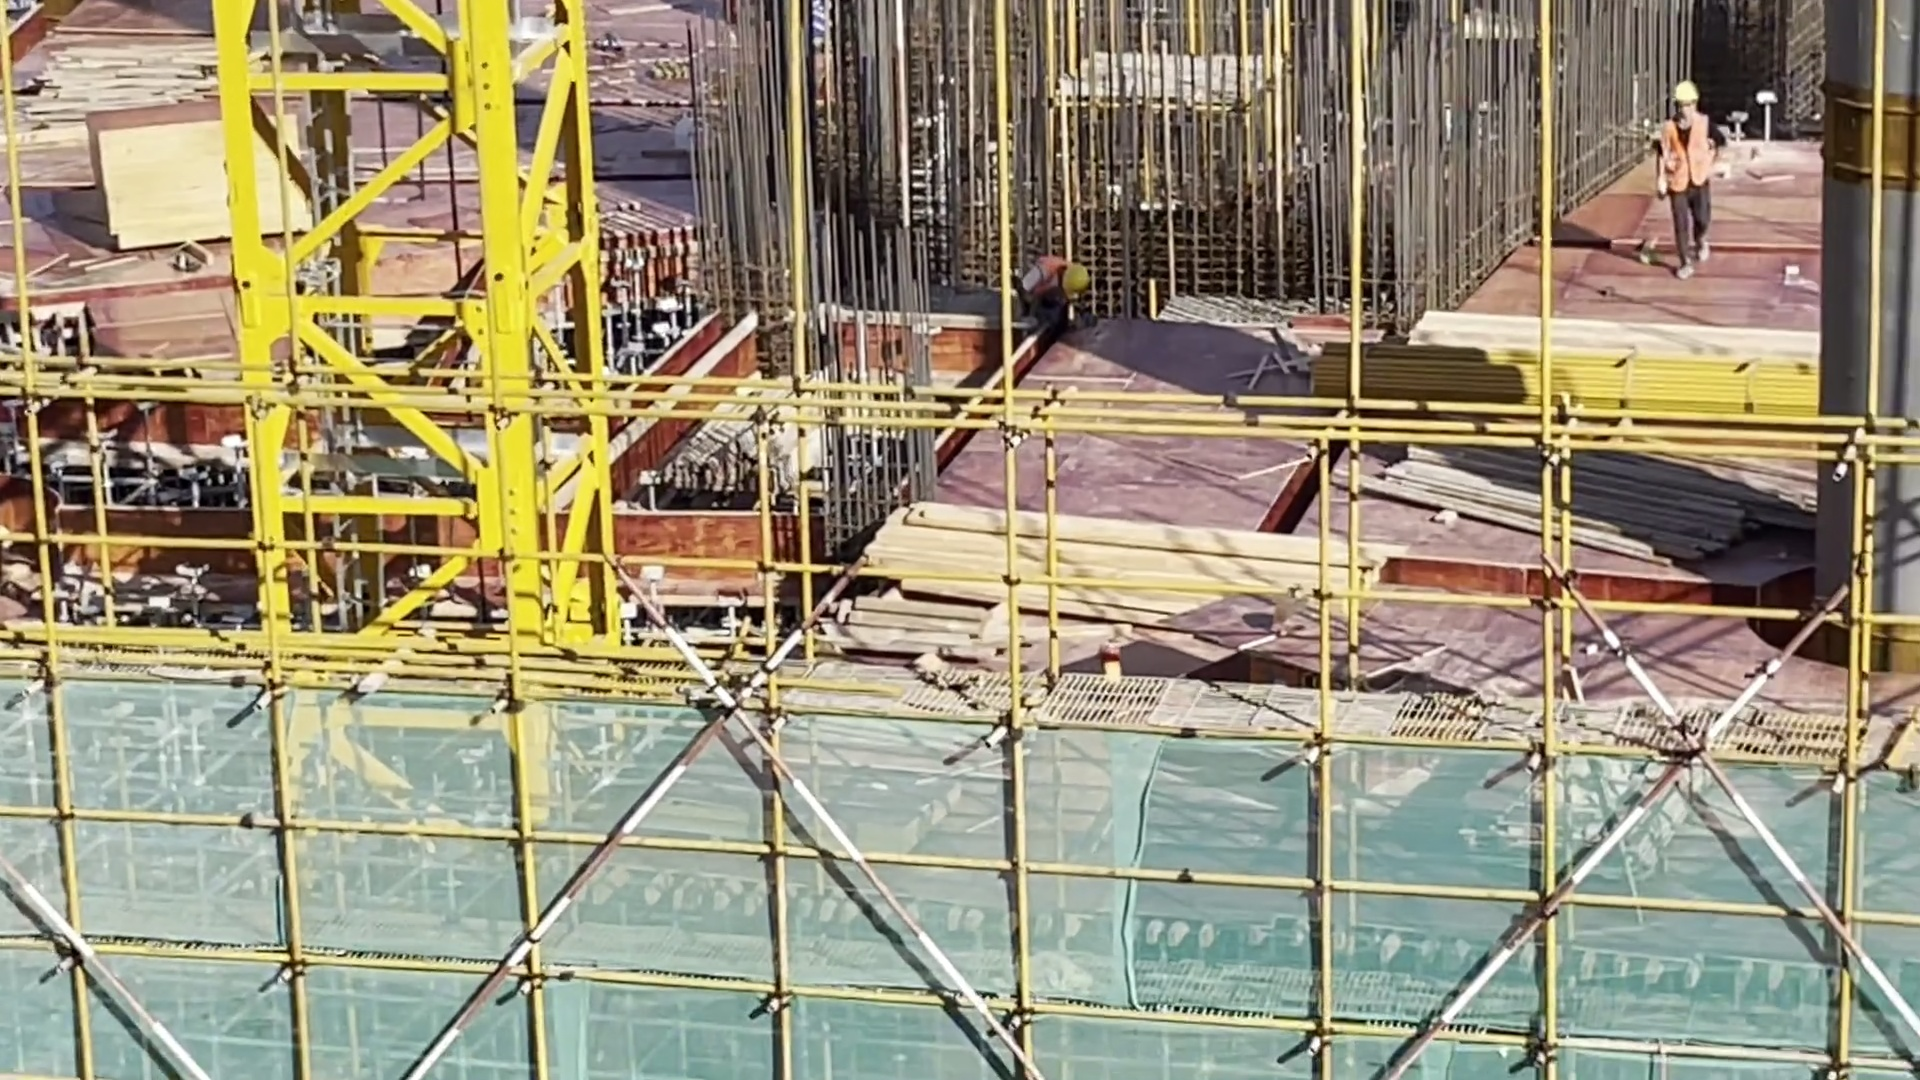board: (68, 94, 313, 248)
helmet: (1054, 255, 1093, 302), (1669, 73, 1700, 122)
person: (1655, 79, 1730, 291), (1013, 245, 1101, 338)
vest: (1659, 115, 1718, 196), (1022, 249, 1065, 305)
wood: (856, 498, 1377, 626)
